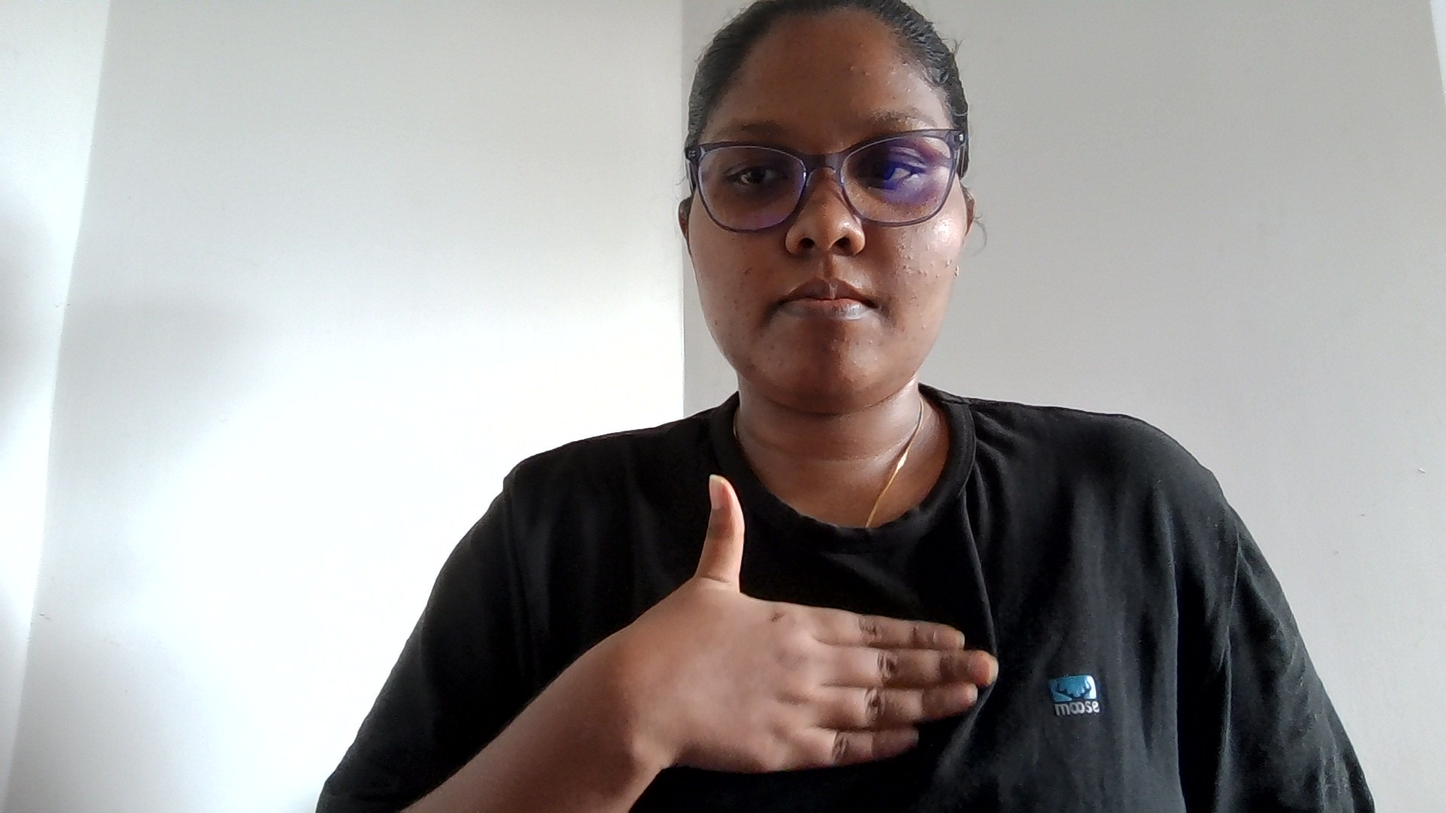Please: (572, 467, 1190, 813)
